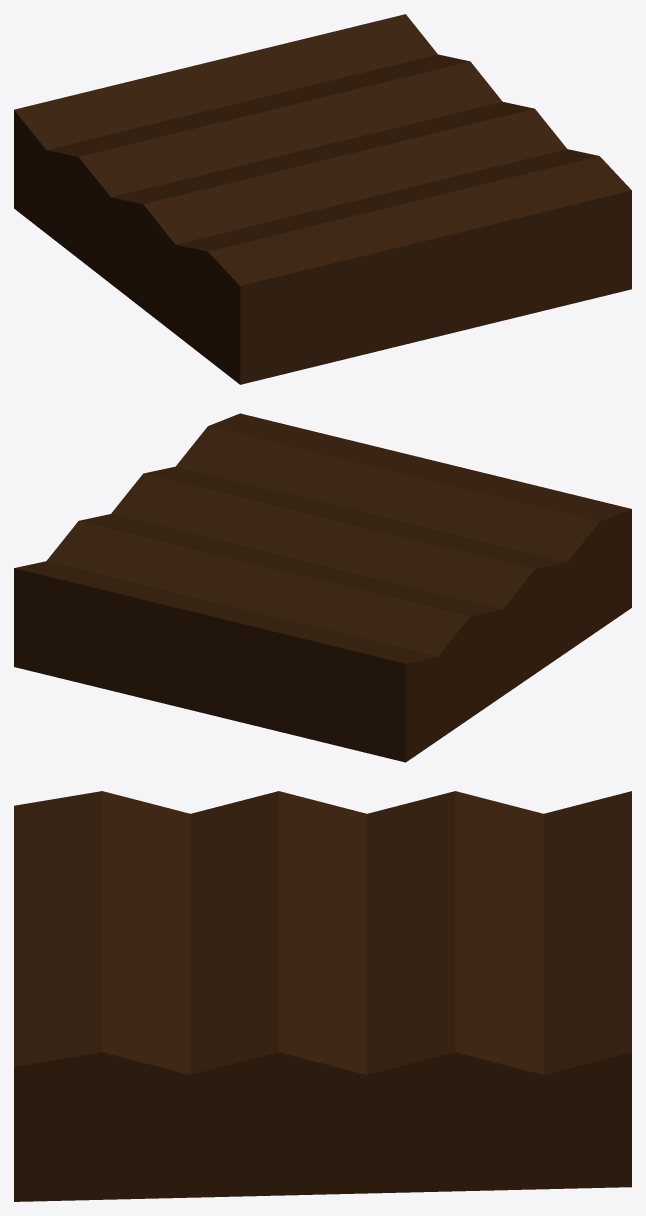
Rendered from Farm_Ground.fbx.
3 views of the same model, one above another, from view 1: azimuth 30°, elevation 25°; view 2: azimuth 150°, elevation 25°; view 3: azimuth 270°, elevation 25° (orthographic). The views are drawn at different scales.
Visible parts, largest first — view 1: Farm Ground; view 2: Farm Ground; view 3: Farm Ground.
Boxes of the visible parts, box(x1,y1,x2,y2) form: Farm Ground: box(14, 14, 631, 384); Farm Ground: box(14, 413, 631, 762); Farm Ground: box(14, 791, 631, 1201).
Bounding box in the file's own units: 200 × 53.47 × 200.
